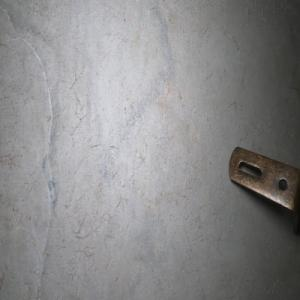MetalPart: (227, 144, 300, 227)
